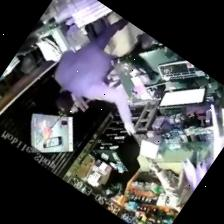person: (55, 18, 135, 133), (150, 162, 192, 211), (150, 162, 192, 210), (101, 159, 140, 199)
